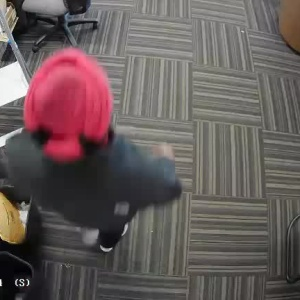person: (6, 50, 156, 234)
